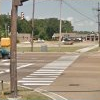crosswalk: (17, 56, 78, 84)
